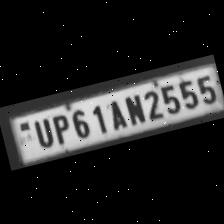1: (86, 101, 110, 136)
2: (139, 87, 164, 122)
5: (156, 81, 182, 117), (192, 70, 218, 106), (174, 76, 199, 111)
6: (65, 106, 93, 142)
A: (102, 96, 127, 132)
N: (120, 90, 146, 128)
P: (47, 110, 74, 146)
U: (28, 114, 56, 150)
